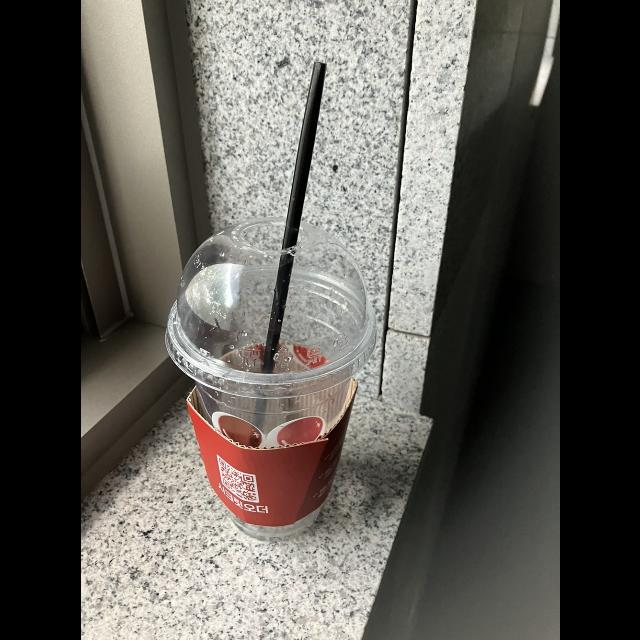plastic_cup: (158, 215, 376, 540)
plastic_cup_lid: (158, 216, 382, 400)
straw: (238, 61, 328, 446)
